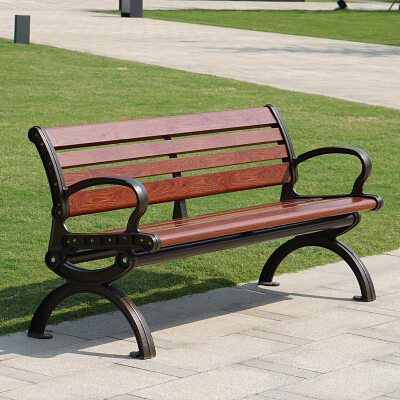bench: (25, 100, 384, 367)
